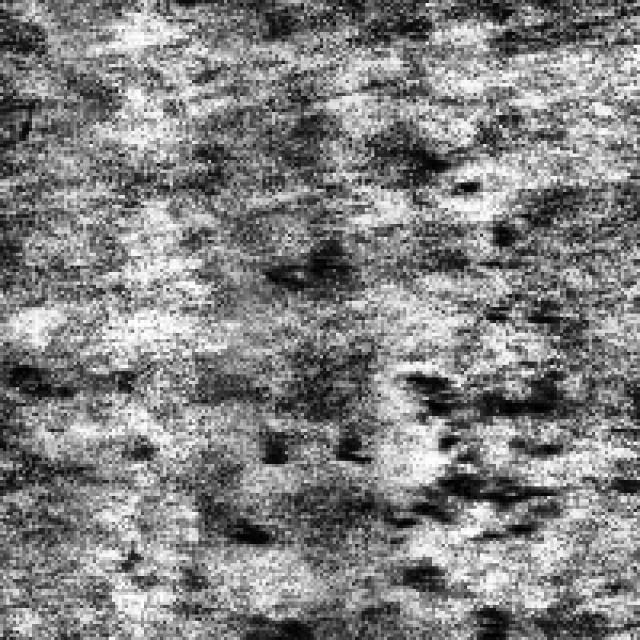Crazing: (371, 298, 576, 630), (230, 422, 365, 637)
